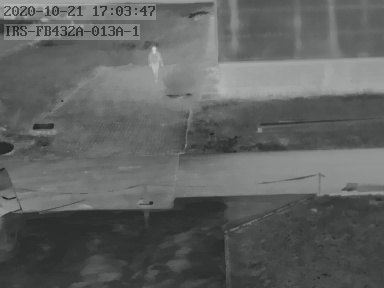person: (148, 43, 162, 78)
